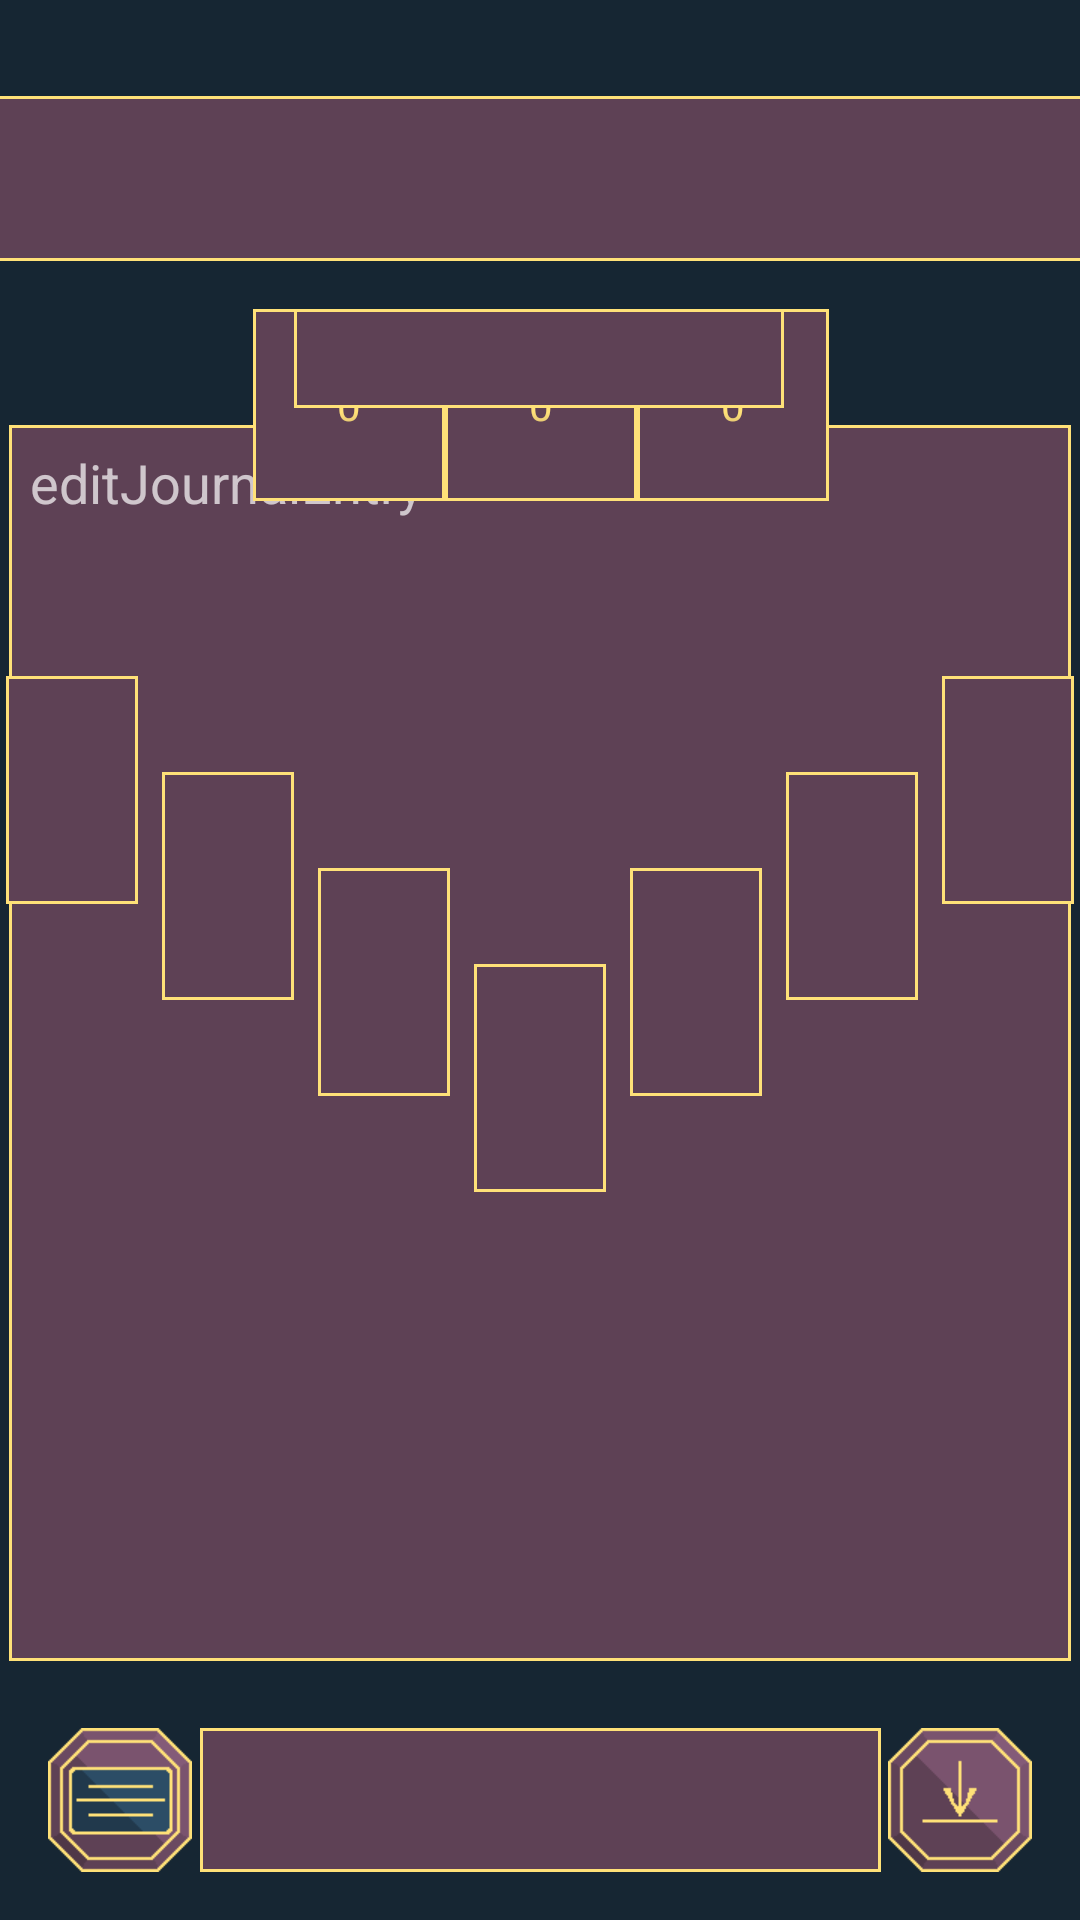

Point at icon controls on the screen. Image size 1080 x 1920, points as point (x, y).
save: point (960, 1800)
